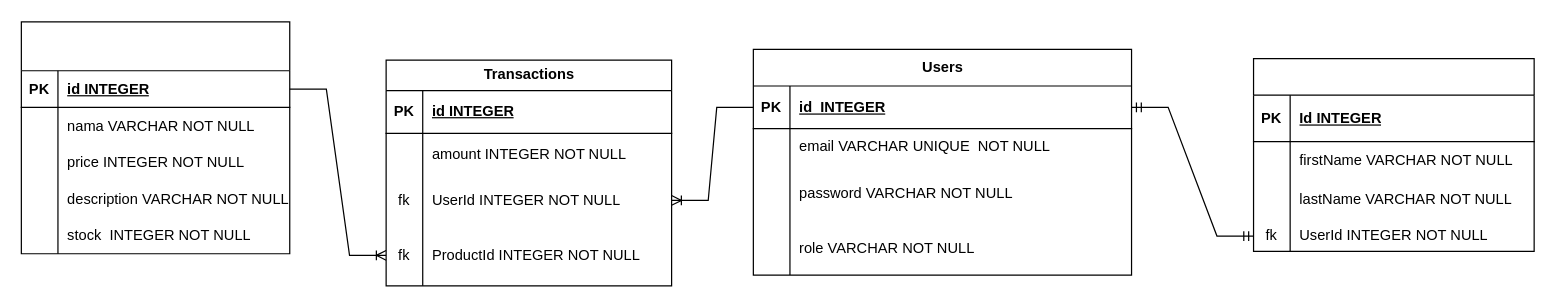
The diagram is 1556 pixels wide and 307 high, and some of its shapes have lost their labels. The shapes that lost their labels are listed below. From the top down, each one's box as (x1, y1, x2, y2) in pixels, then its label:
(20, 21, 290, 254): Products
(1252, 57, 1534, 251): UserProfiles
